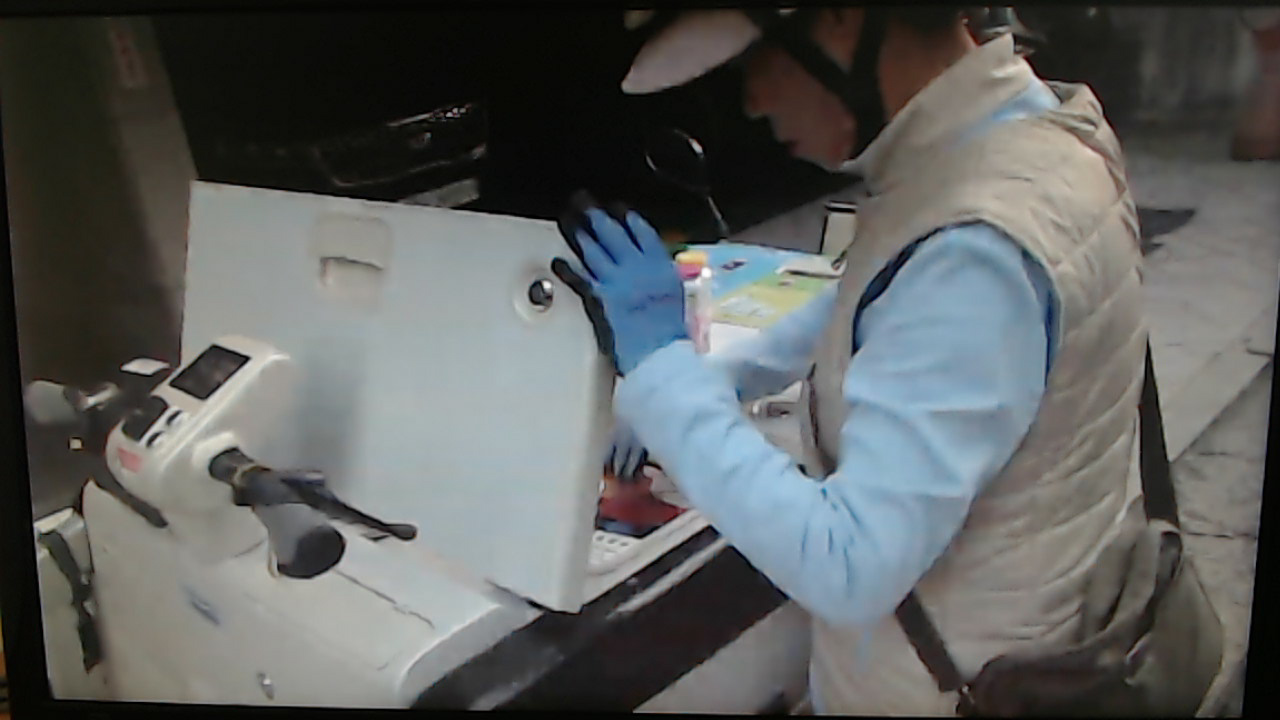Yakurut: (565, 12, 1234, 716)
